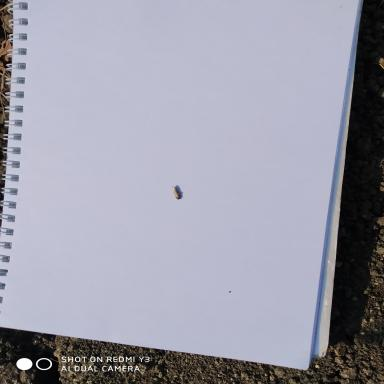pbw: (168, 185, 186, 200)
